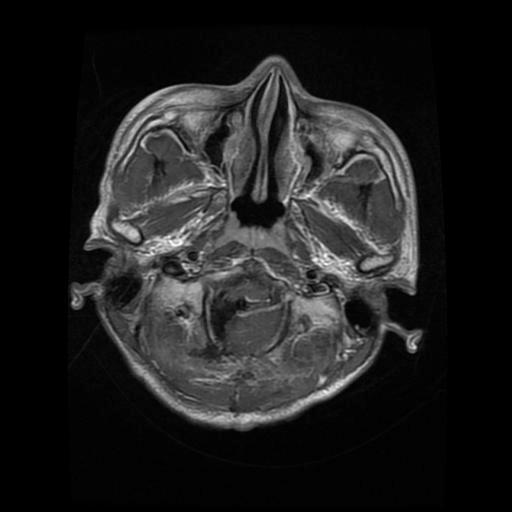Tumour-Glioma: (153, 287, 208, 345)
